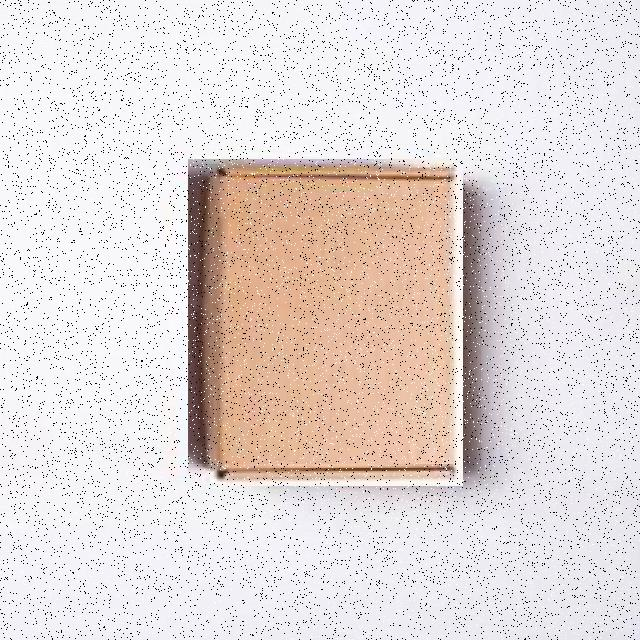normal: (188, 159, 463, 486)
